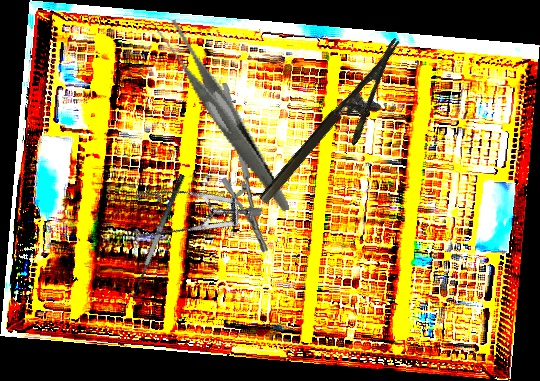Dressing Forceps: (155, 3, 290, 231)
Needle Holder: (257, 37, 425, 223), (205, 82, 286, 254)
Spatula Surgical: (126, 173, 196, 304)
Speculum: (114, 147, 264, 290)
